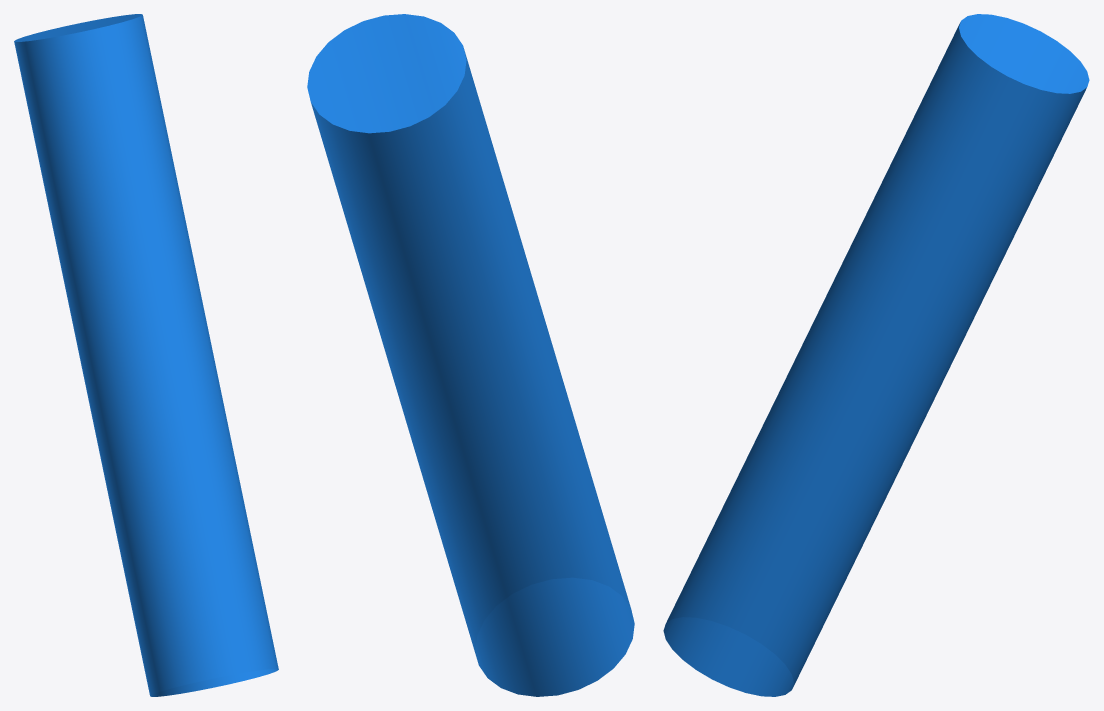
The model's file is Event_421556567_MET.fbx.
The picture shows the model from 3 angles, left to right: view 1: azimuth 30°, elevation 25°; view 2: azimuth 150°, elevation 25°; view 3: azimuth 270°, elevation 25°; orthographic projection. The views are drawn at different scales.
Parts seen in each view (by area): view 1: Model; view 2: Model; view 3: Model.
Part boxes in pixels (bbox=[...]): Model: bbox=[14, 14, 278, 696]; Model: bbox=[307, 14, 634, 696]; Model: bbox=[663, 14, 1089, 696].
Bounding box in the file's own units: 0.04 × 0.2024 × 0.1192.
